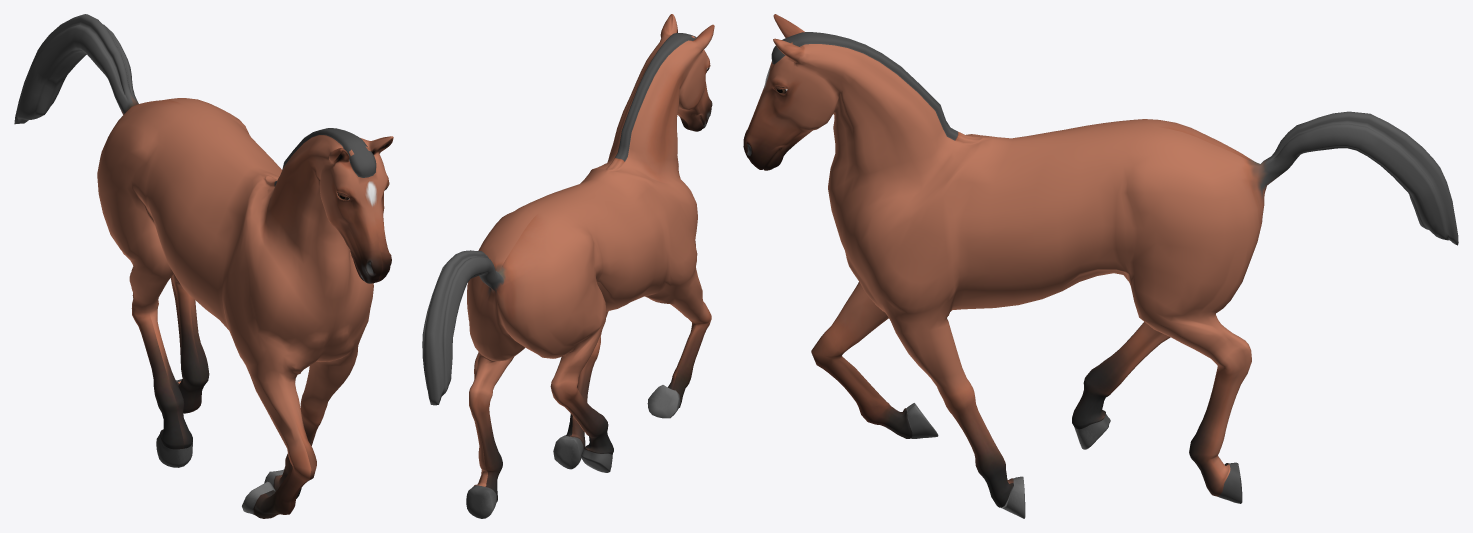
File: horse_obj_16.obj
3 views of the same model, side by side, from view 1: azimuth 30°, elevation 25°; view 2: azimuth 150°, elevation 25°; view 3: azimuth 270°, elevation 25° (orthographic). The views are drawn at different scales.
Parts seen in each view (by area): view 1: Figure_1; view 2: Figure_1; view 3: Figure_1.
Part boxes in pixels (x1,y1,x2,y2): Figure_1: (14, 14, 393, 518); Figure_1: (422, 14, 714, 518); Figure_1: (743, 14, 1458, 518).
Size of the model in its own units: 0.2421 by 0.8097 by 1.1.
7 materials, 7 textured.
